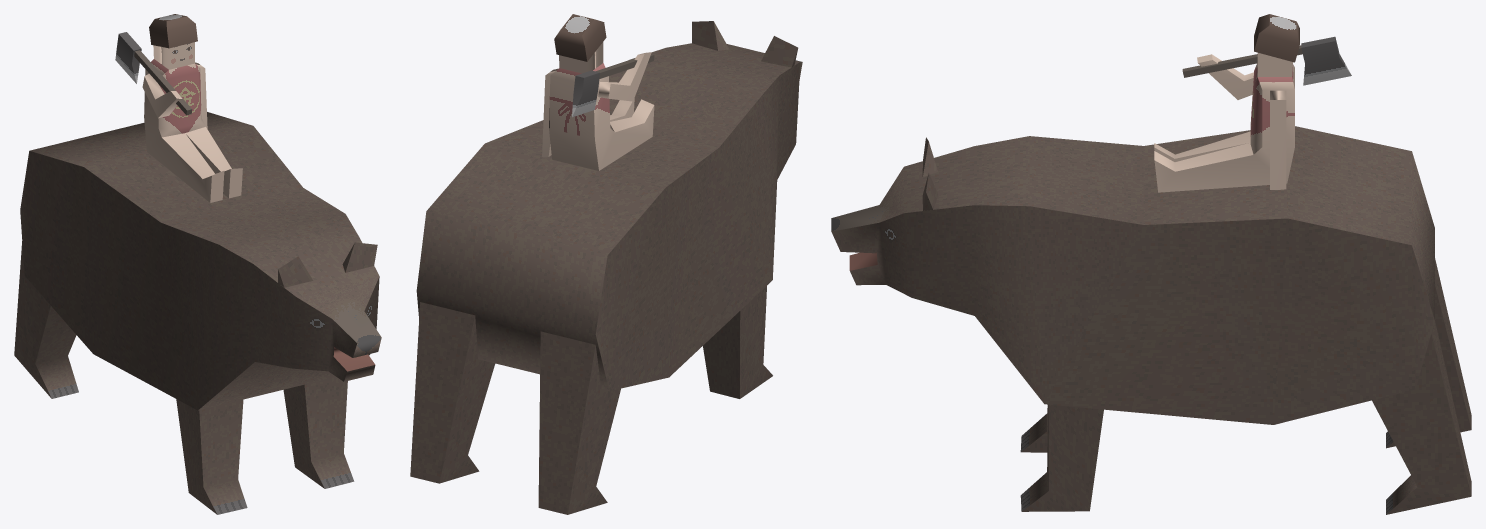
Rendered from 01d8_Kintaro-Bear.glb.
3 views of the same model, side by side, from view 1: azimuth 30°, elevation 25°; view 2: azimuth 150°, elevation 25°; view 3: azimuth 270°, elevation 25° (orthographic). The views are drawn at different scales.
Parts seen in each view (by area): view 1: part_0; view 2: part_0; view 3: part_0.
Part boxes in pixels (bbox=[...]): part_0: bbox=[14, 14, 381, 514]; part_0: bbox=[410, 14, 802, 514]; part_0: bbox=[831, 14, 1471, 514].
Size of the model in its own units: 1.07 by 2.32 by 2.97.
Materials: 1 (1 with a texture image).
